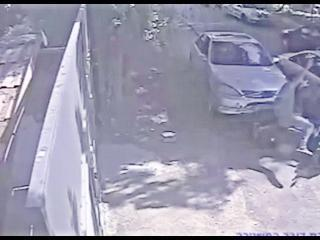Car: (187, 30, 290, 120)
Major Accident: (185, 28, 320, 158)
Motor: (254, 79, 320, 156)
